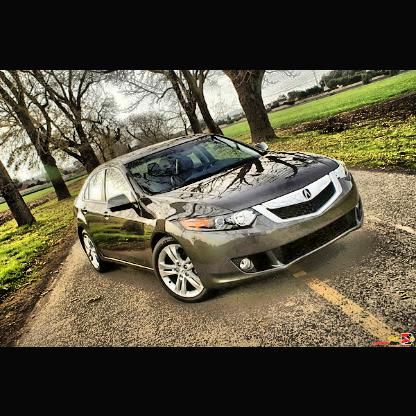Acura TSX Sedan 2012: (74, 133, 367, 304)
